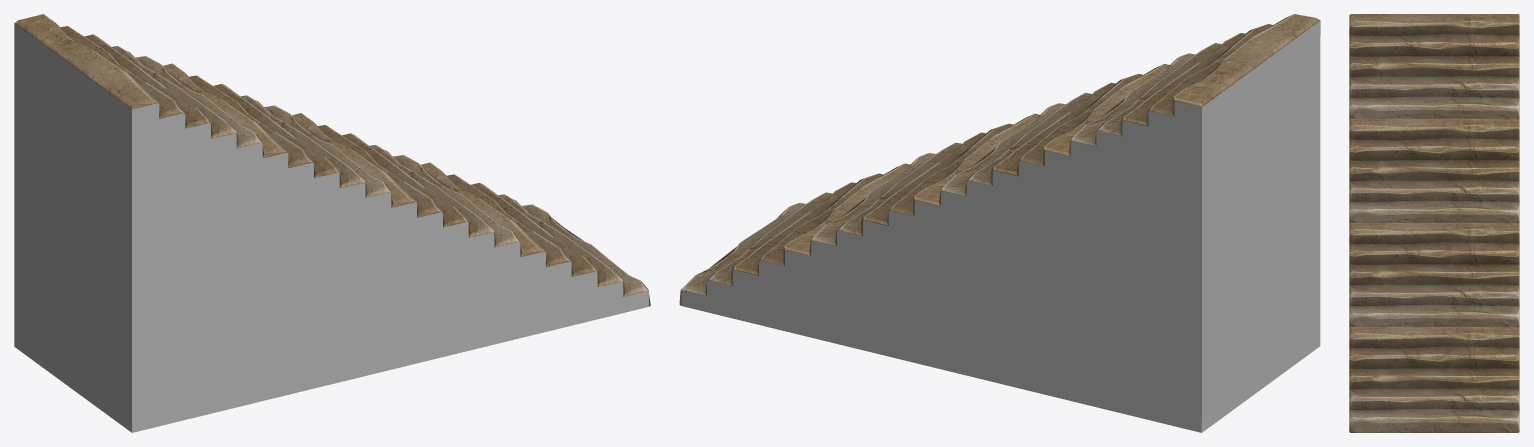
File: lower_city_stair_02.fbx
The picture shows the model from 3 angles, left to right: view 1: azimuth 30°, elevation 25°; view 2: azimuth 150°, elevation 25°; view 3: azimuth 270°, elevation 25°; orthographic projection. The views are drawn at different scales.
Visible parts, largest first — view 1: lower_city_stair_02; view 2: lower_city_stair_02; view 3: lower_city_stair_02.
Boxes of the visible parts, box(x1,y1,x2,y2) form: lower_city_stair_02: box(14, 14, 650, 432); lower_city_stair_02: box(679, 14, 1320, 432); lower_city_stair_02: box(1349, 14, 1519, 432).
Size of the model in its own units: 5.04 by 3.03 by 1.98.
